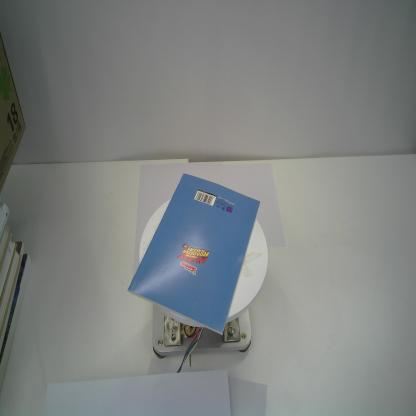Stationery: (127, 171, 260, 336)
